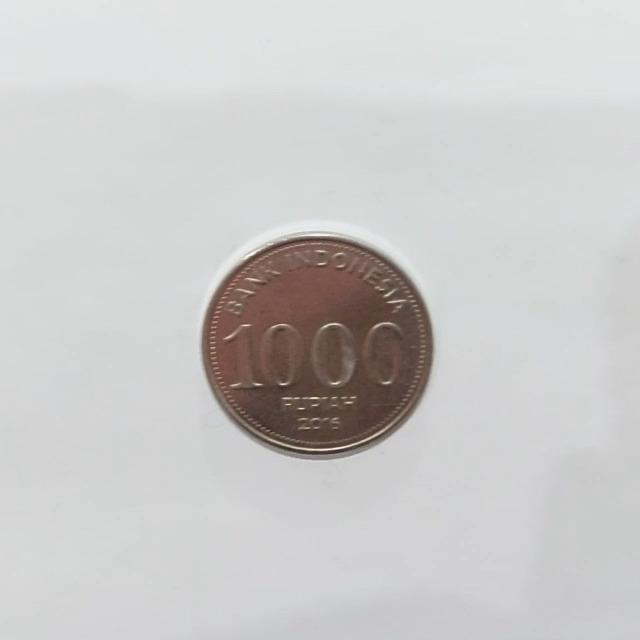Rp100: (198, 224, 435, 460)
